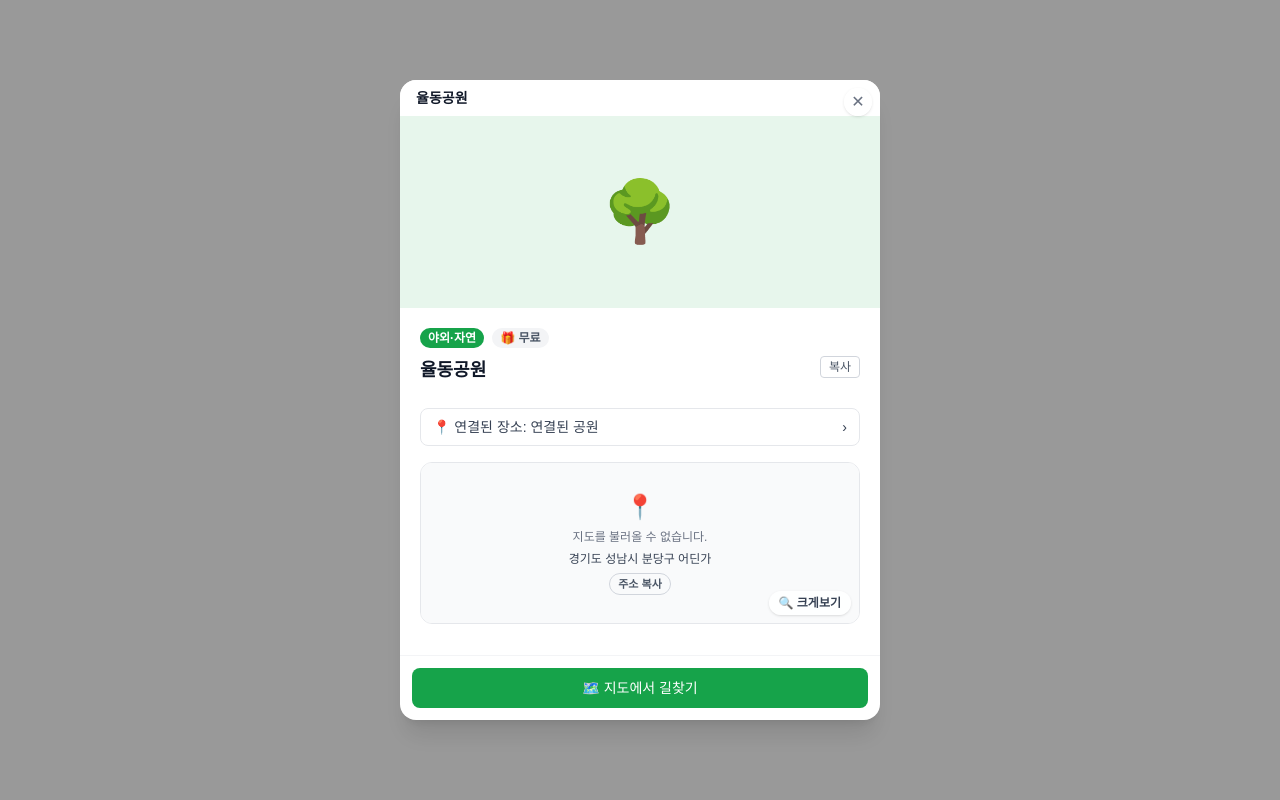
Test case: DetailModal Event↔Spot 양방향 링킹 (개선사항10, 2026-09-11) › 이벤트에 연결된 스팟이 있으면 탭 가능한 행을 보여주고, 누르면 그 스팟 상세가 중첩으로 열린다
Click the text "📍 연결된 장소: 연결된 공원": [516, 427] box left=433, top=417, right=599, bottom=437
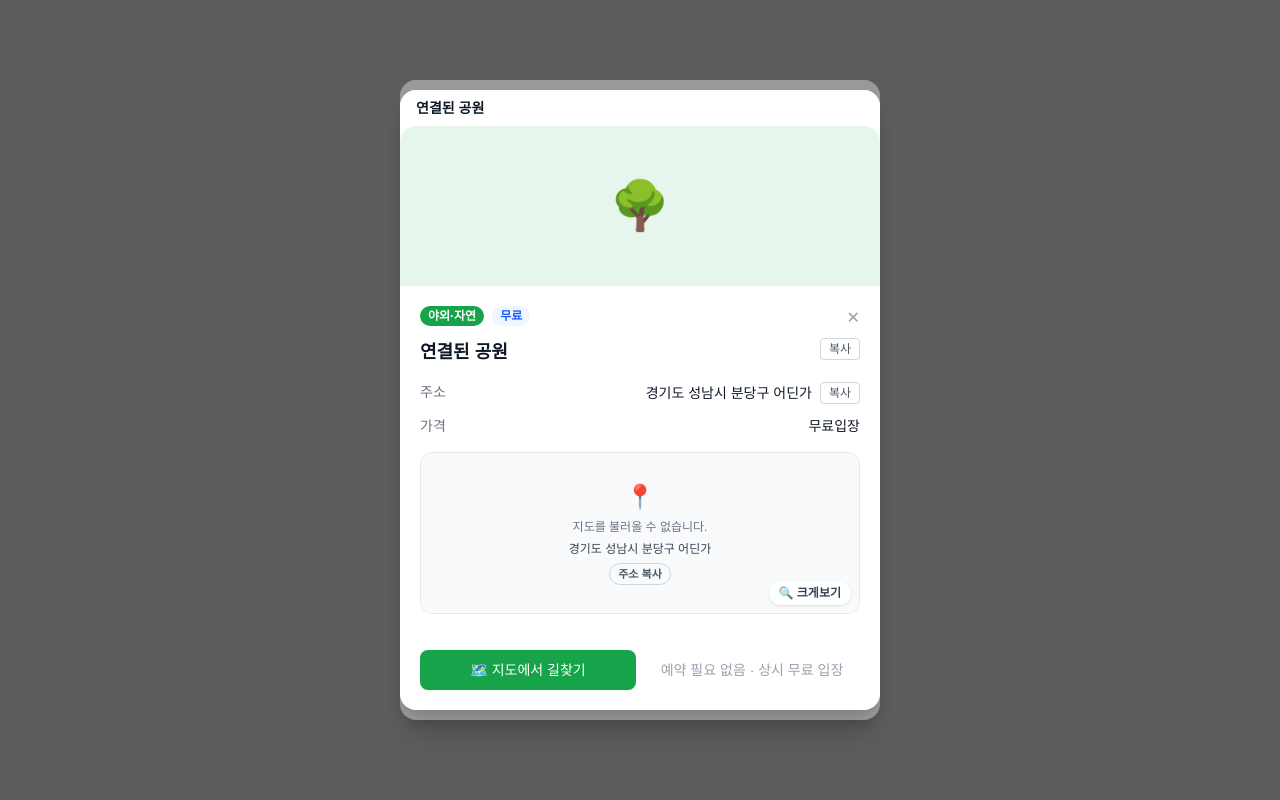
Check: the text "주소" is shown, box left=420, top=382, right=446, bottom=402
Check: the heading "연결된 공원" is shown, box left=420, top=338, right=508, bottom=366
